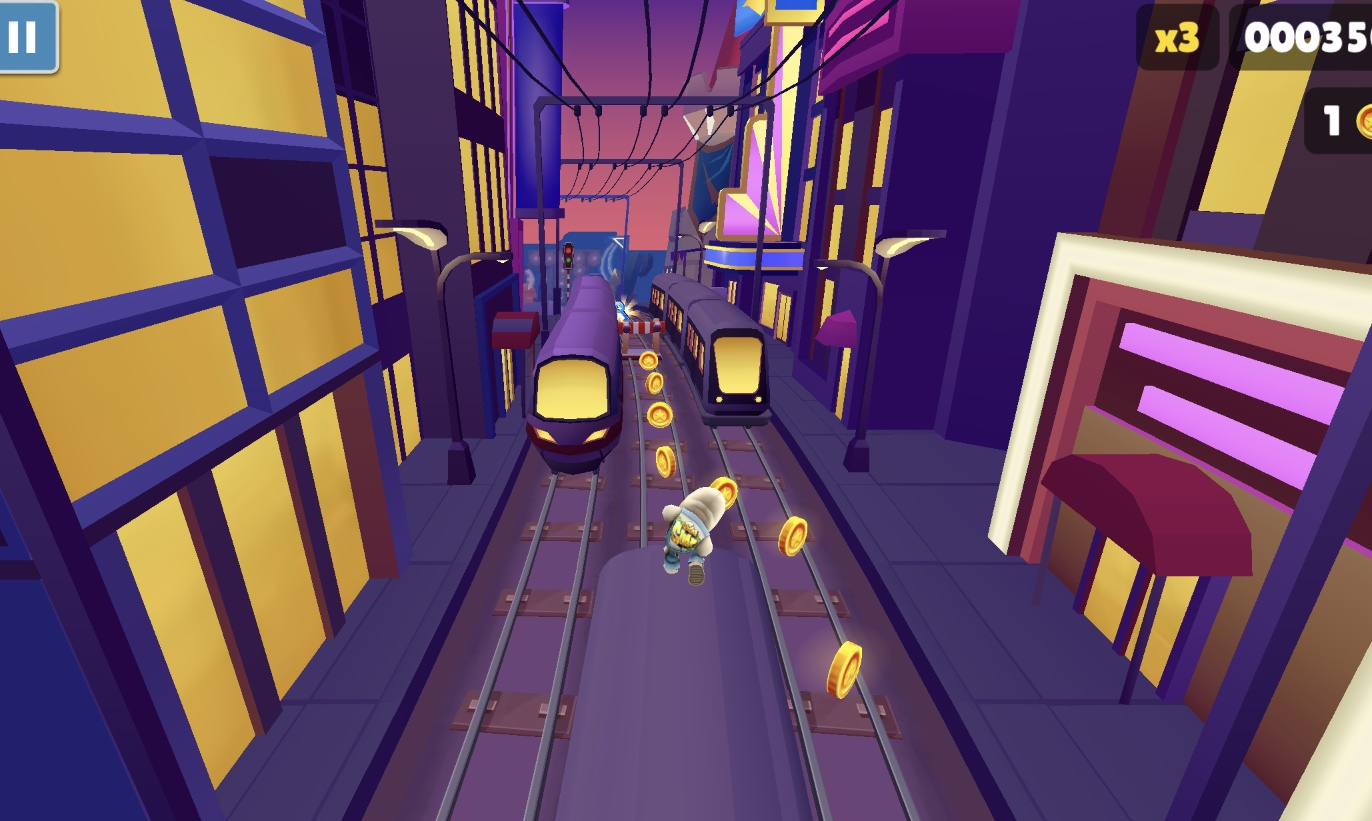ground_barrier: (620, 317, 665, 365)
train: (553, 541, 820, 821), (520, 275, 626, 477), (654, 276, 773, 430)
